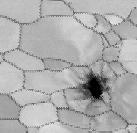good_void: (75, 67, 111, 104)
